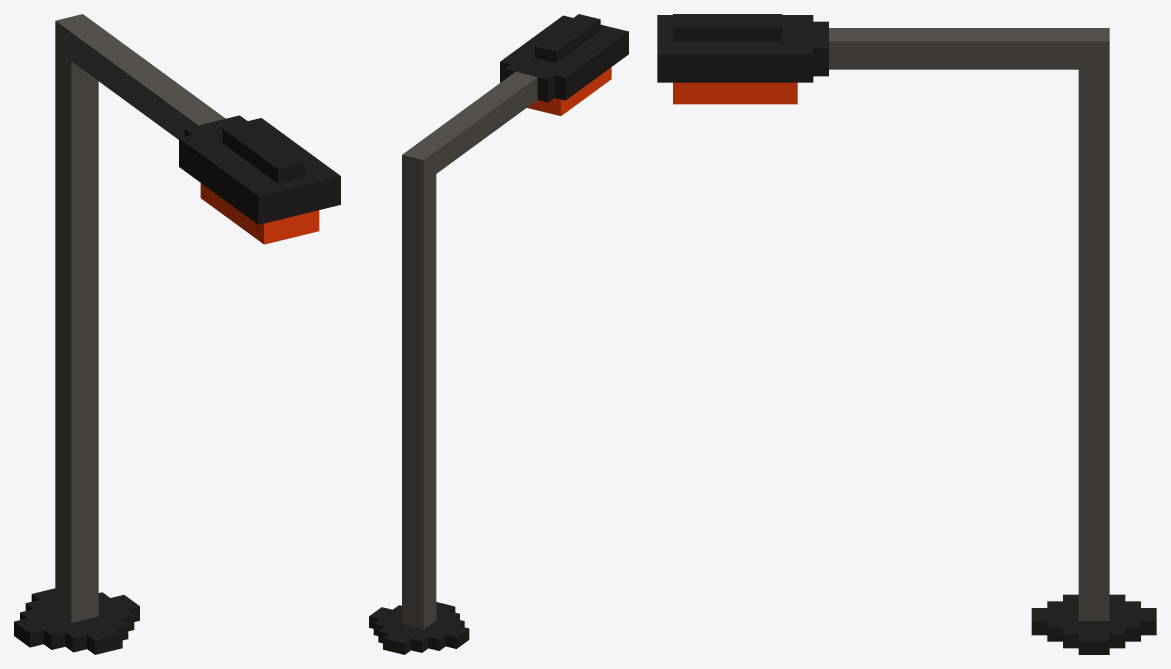
The model's file is streetLight-0-0.obj.
The picture shows the model from 3 angles, left to right: view 1: azimuth 30°, elevation 25°; view 2: azimuth 150°, elevation 25°; view 3: azimuth 270°, elevation 25°; orthographic projection. The views are drawn at different scales.
Size of the model in its own units: 0.8 by 4.3 by 3.2.
1 material, 1 textured.
